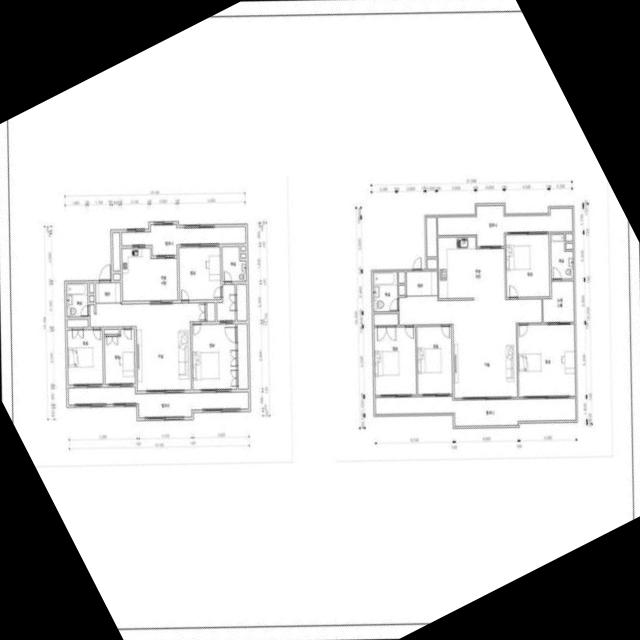background: (0, 0, 640, 640)
space_balconi: (375, 396, 575, 426), (68, 387, 248, 418), (437, 205, 572, 246), (121, 224, 245, 256)
space_bedroom: (517, 324, 575, 397), (191, 324, 247, 390), (373, 314, 416, 395), (505, 234, 549, 297), (416, 326, 452, 394), (67, 319, 103, 385), (179, 247, 220, 300), (104, 329, 134, 384), (543, 281, 574, 322)
space_dressroom: (216, 284, 246, 321)
space_front: (406, 271, 437, 296), (95, 283, 120, 303)
space_kitchen: (438, 237, 505, 298), (121, 248, 177, 301)
space_living_room: (399, 296, 541, 398), (89, 303, 214, 391)
space_other: (426, 217, 436, 257), (112, 232, 120, 271), (427, 259, 436, 269), (398, 272, 404, 283), (398, 285, 404, 295), (565, 234, 572, 241), (113, 274, 120, 280), (565, 243, 572, 249), (89, 283, 93, 293), (89, 296, 93, 302), (241, 254, 245, 258), (241, 246, 245, 250)
space_toilet: (550, 234, 573, 279), (372, 272, 397, 312), (222, 246, 246, 281), (66, 283, 87, 316)
